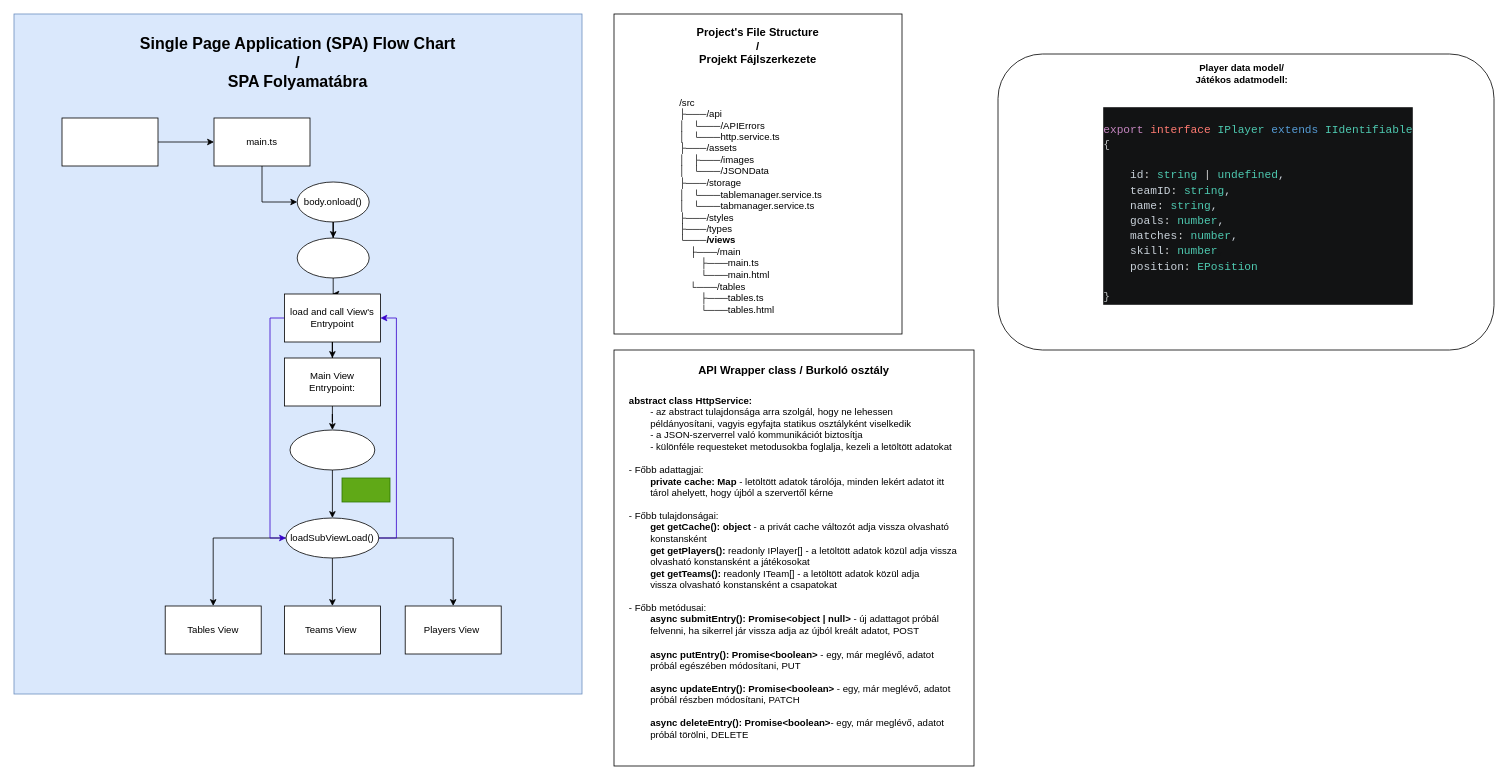
The diagram is 1508 pixels wide and 780 high, and some of its shapes have lost their labels. Each missing label, with the centre of its shape:
data-view: point 365,489
initalize(): point 332,257
Kezdőpont / Entrypoint:: point 109,141
navClick.onclick(): point 332,449
